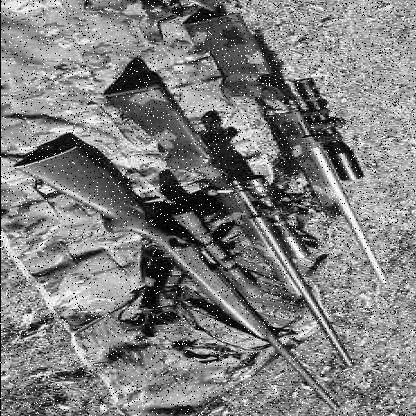rifle: (20, 145, 337, 411), (94, 80, 367, 367), (194, 6, 398, 285)
